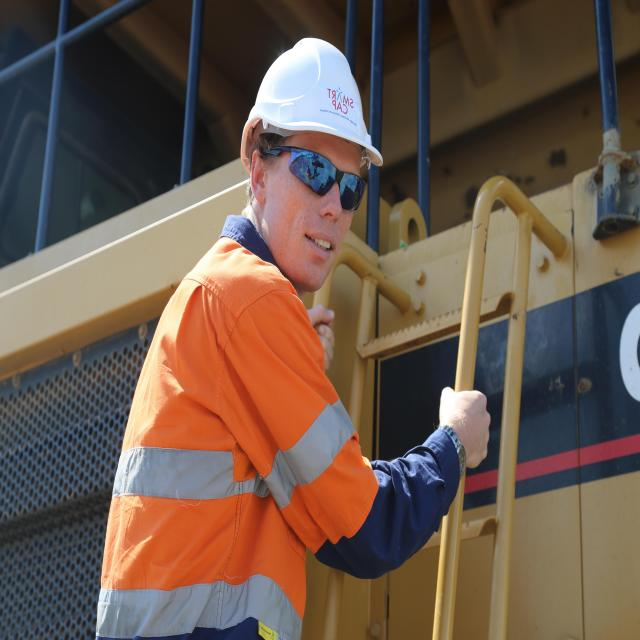Reflective-Jacket: (95, 252, 370, 638)
Safety-Helmet: (238, 33, 384, 174)
